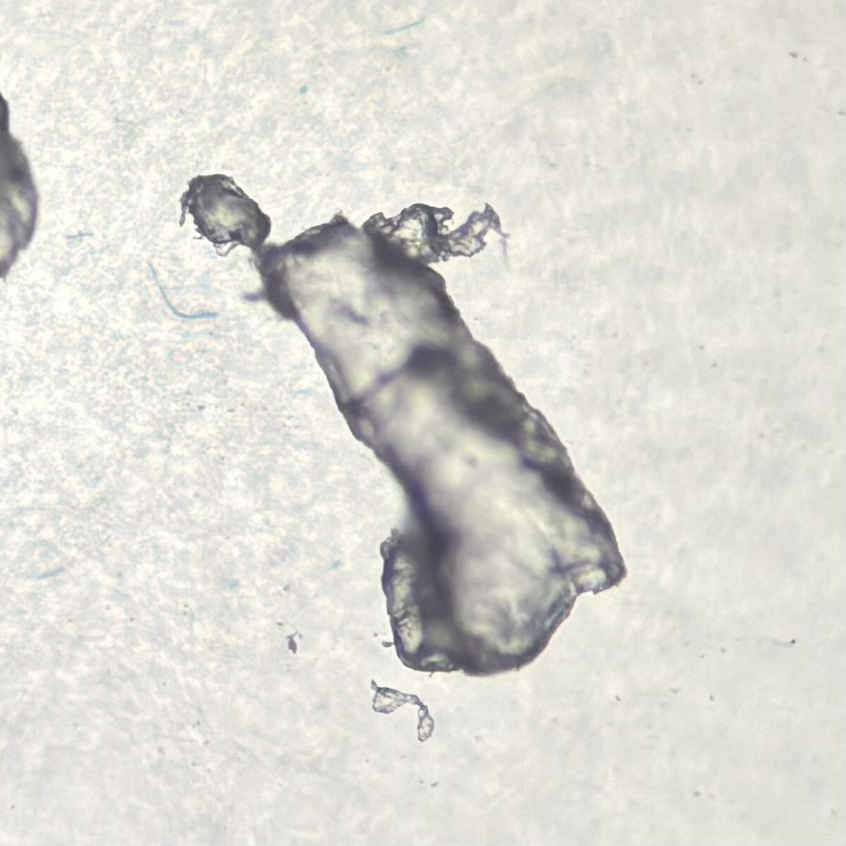microplastic: (179, 172, 626, 679), (1, 88, 36, 279), (371, 678, 433, 739)
